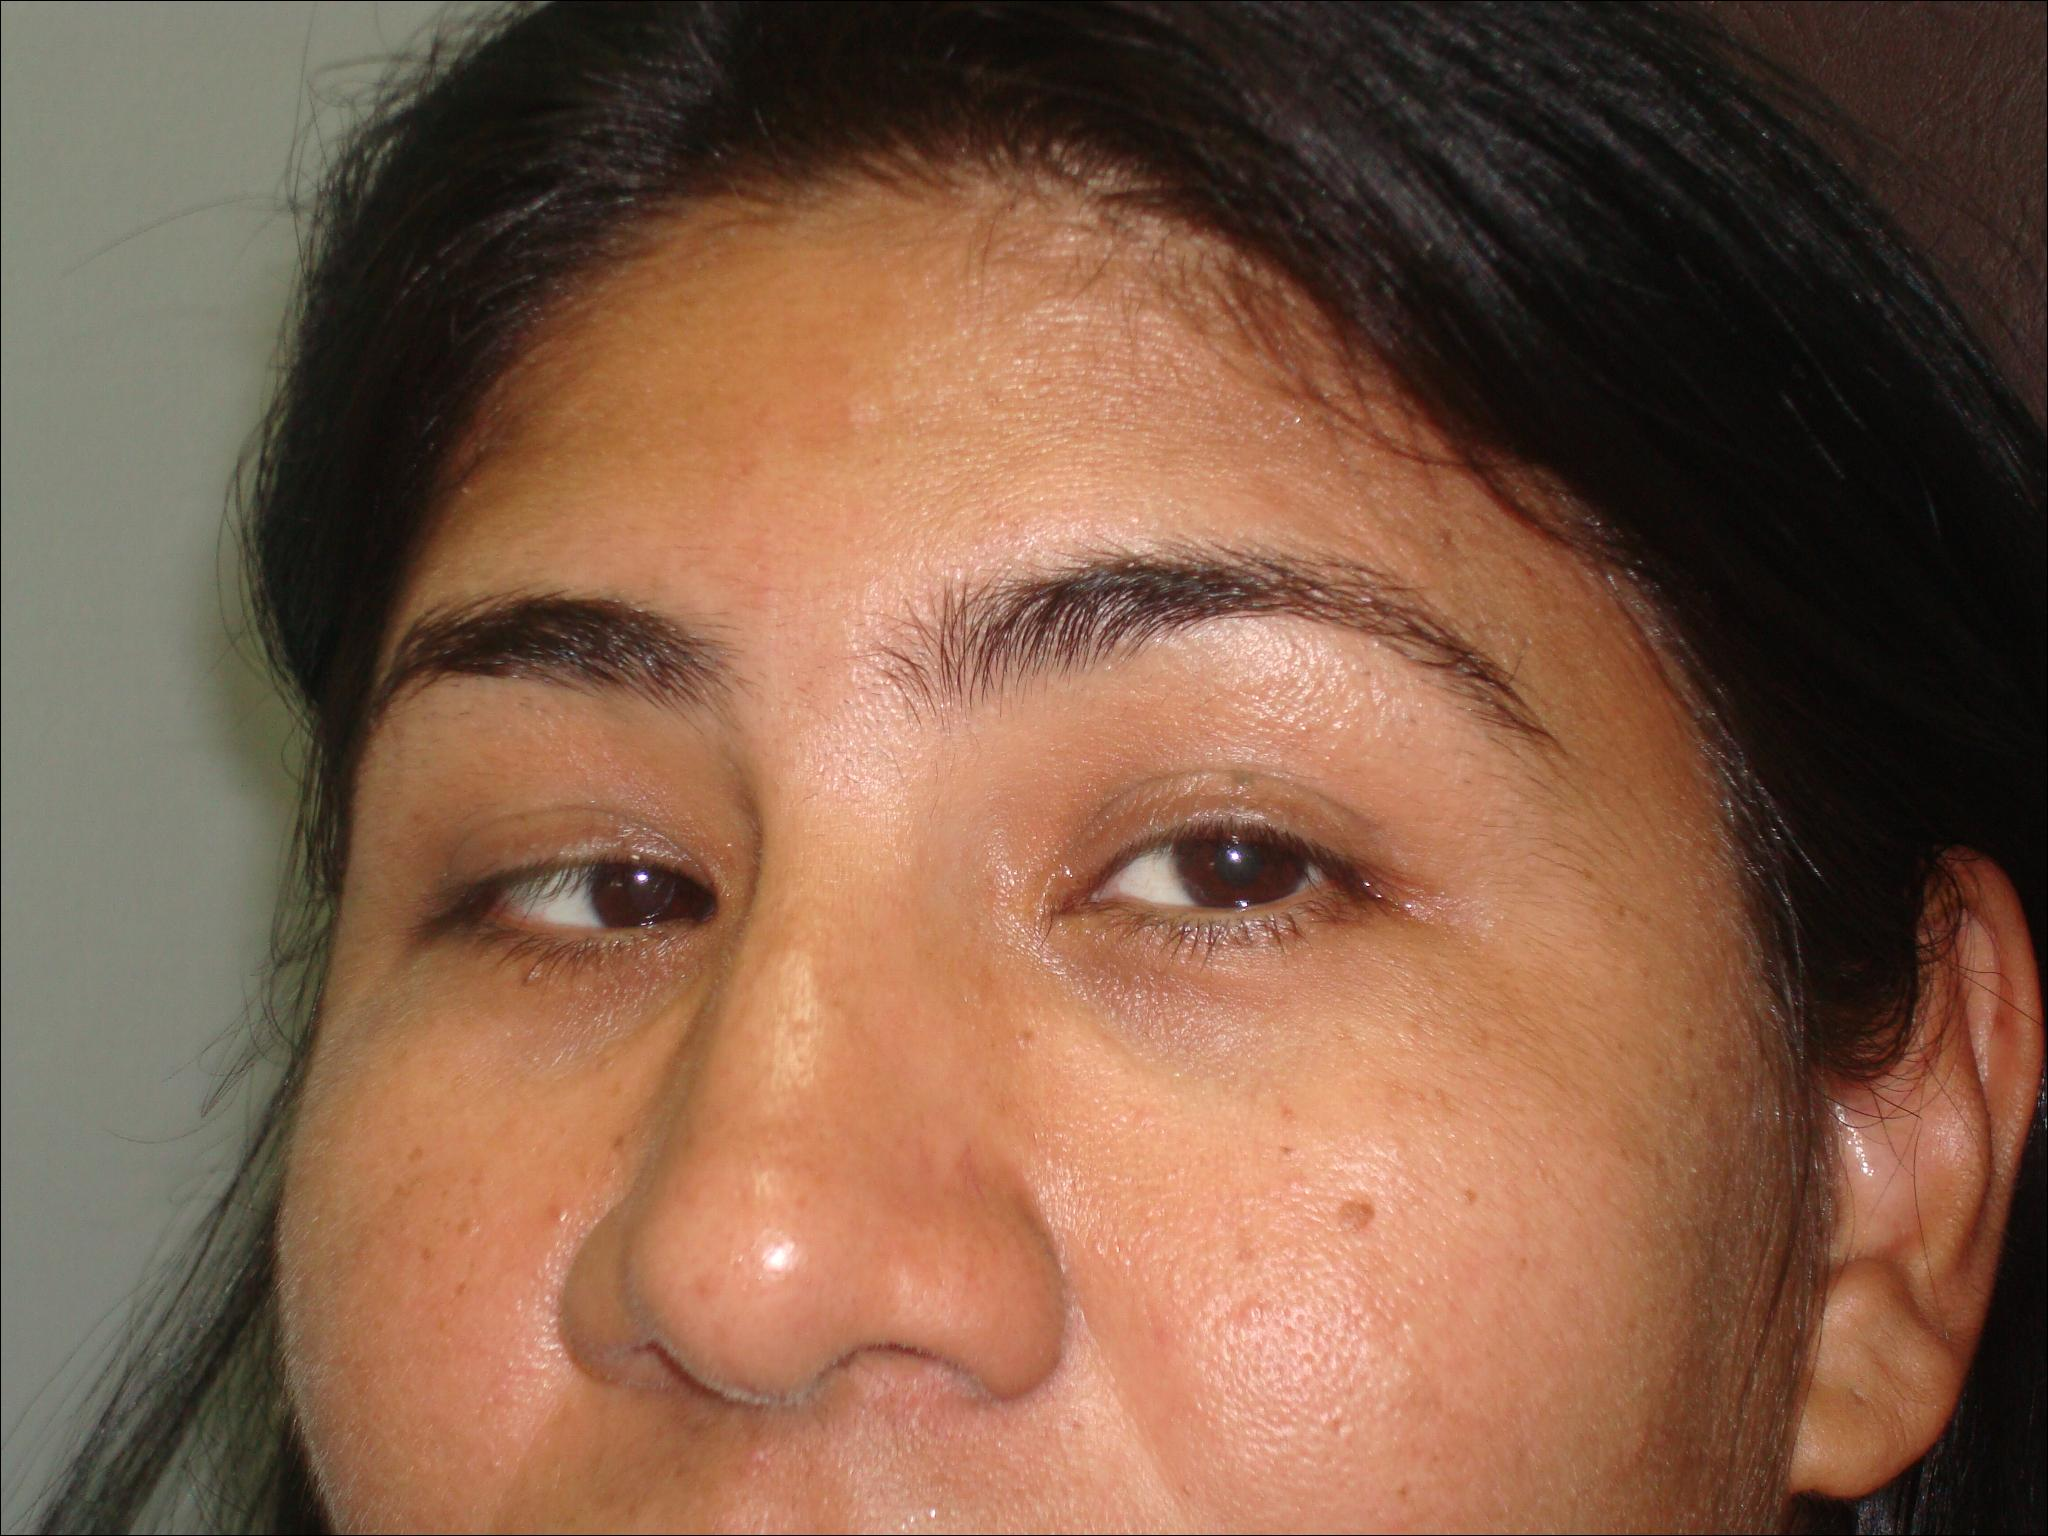flash: (631, 865, 653, 889), (1226, 847, 1245, 866)
limbo: (590, 831, 716, 941), (1174, 807, 1301, 915)
